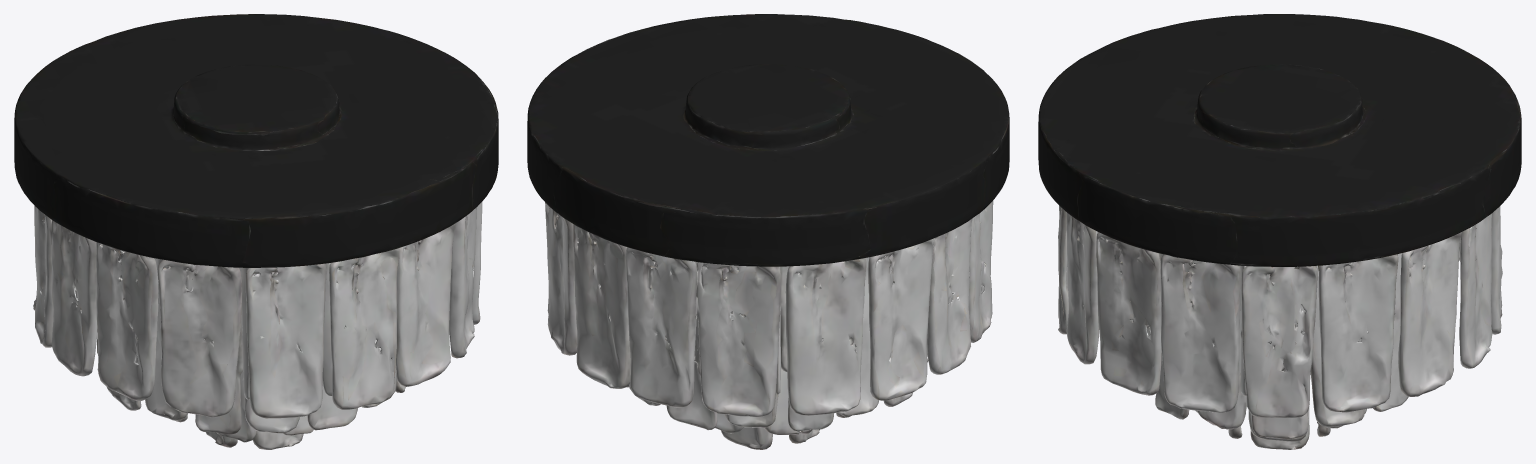
The model's file is Miscellaneous [E0VrAM].glb.
The picture shows the model from 3 angles, left to right: view 1: azimuth 30°, elevation 25°; view 2: azimuth 150°, elevation 25°; view 3: azimuth 270°, elevation 25°; orthographic projection.
Visible parts, largest first — view 1: geometry_0; view 2: geometry_0; view 3: geometry_0.
Boxes of the visible parts, left/top/right/bottom form: geometry_0: left=14, top=14, right=498, bottom=449; geometry_0: left=527, top=14, right=1009, bottom=449; geometry_0: left=1038, top=14, right=1521, bottom=449.
Bounding box in the file's own units: 1 × 0.7614 × 1.
Materials: 1 (1 with a texture image).
